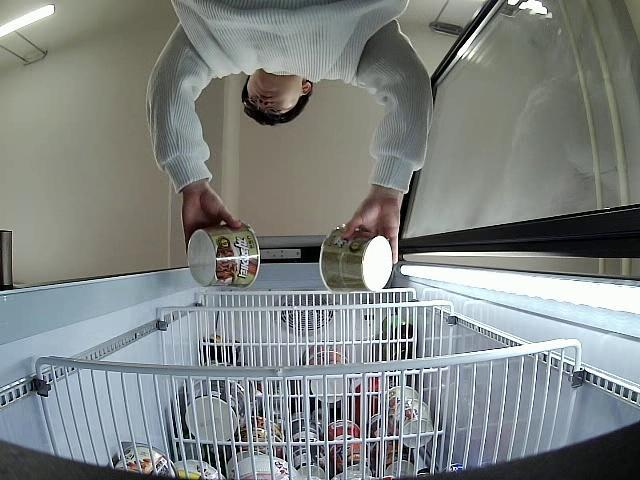03_chapagetti_L: (320, 224, 394, 293), (186, 224, 261, 292)
